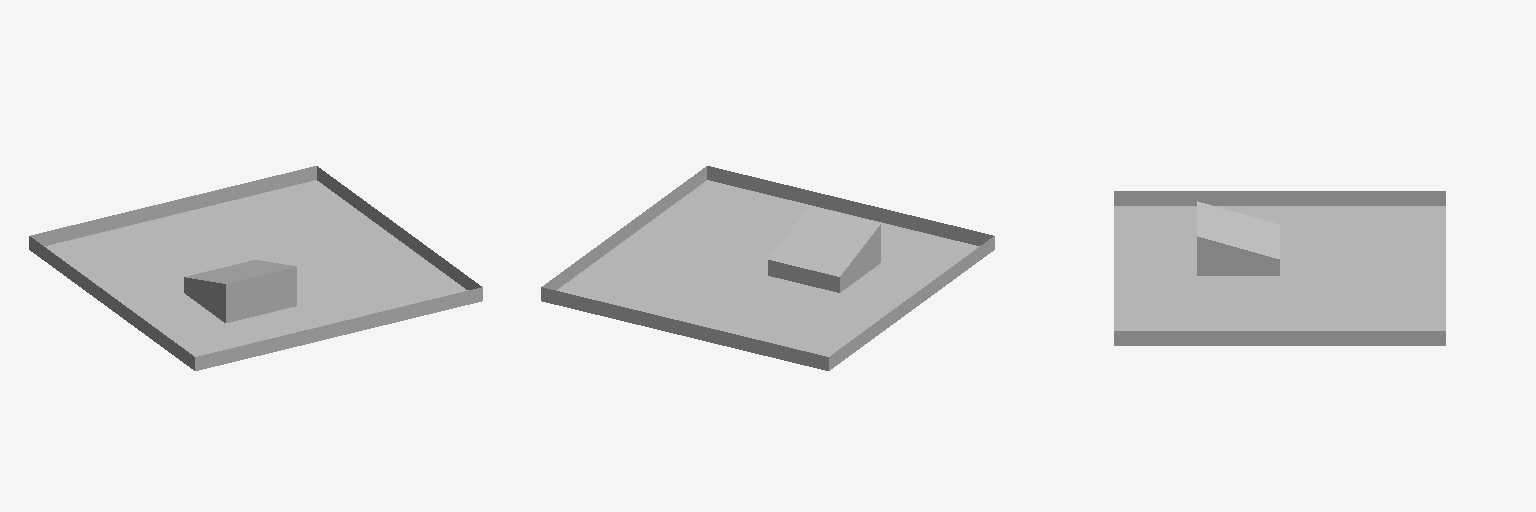
File: terrain test2.obj
The picture shows the model from 3 angles: view 1: azimuth 30°, elevation 25°; view 2: azimuth 150°, elevation 25°; view 3: azimuth 270°, elevation 25°; orthographic projection.
Visible parts, largest first — view 1: Plane; view 2: Plane; view 3: Plane.
Boxes of the visible parts, x1=… form: Plane: x1=29, y1=166, x2=482, y2=370; Plane: x1=541, y1=166, x2=994, y2=370; Plane: x1=1114, y1=191, x2=1445, y2=345.
Bounding box in the file's own units: 30 × 3.93 × 30.